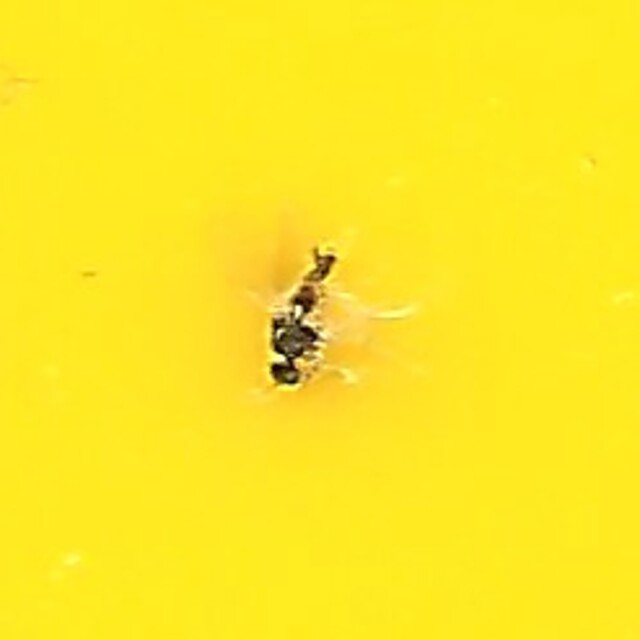Brachycera: (259, 244, 381, 396)
